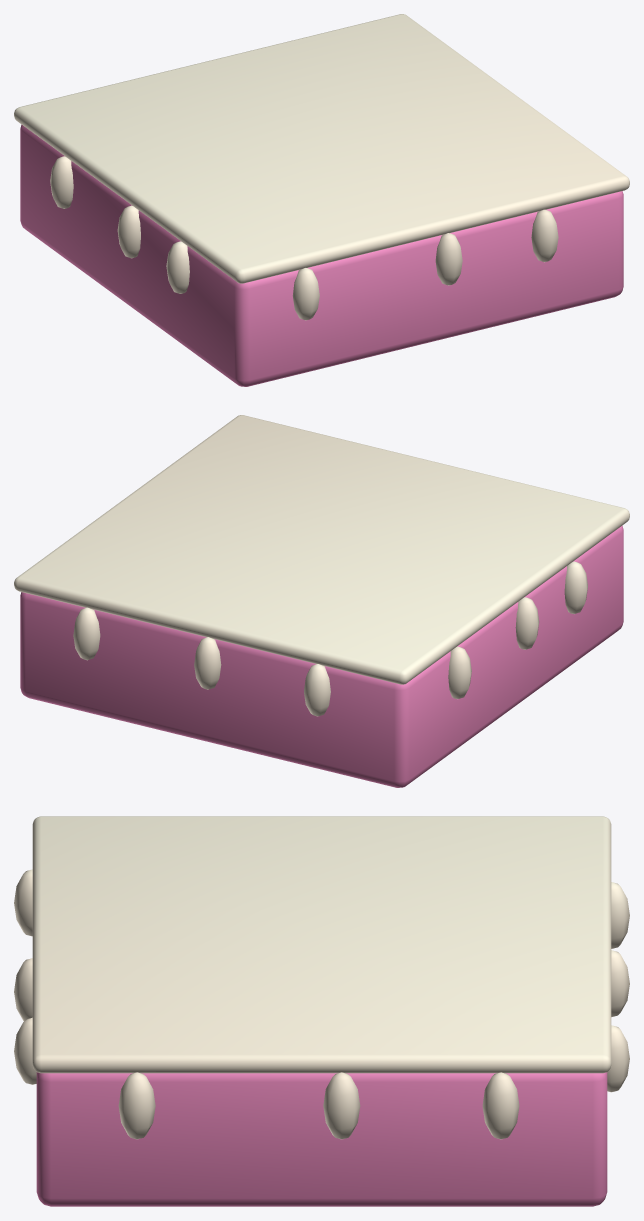
The model's file is bg_block.glb.
The picture shows the model from 3 angles, top to bottom: view 1: azimuth 30°, elevation 25°; view 2: azimuth 150°, elevation 25°; view 3: azimuth 270°, elevation 25°; orthographic projection. The views are drawn at different scales.
Visible parts, largest first — view 1: M_Block__k_trim, M_Block__k_base; view 2: M_Block__k_trim, M_Block__k_base; view 3: M_Block__k_trim, M_Block__k_base.
Part boxes in pixels (<box>): M_Block__k_trim: <box>14,14,629,320</box>; M_Block__k_base: <box>20,124,623,386</box>; M_Block__k_trim: <box>14,415,629,716</box>; M_Block__k_base: <box>20,525,623,787</box>; M_Block__k_trim: <box>14,816,629,1139</box>; M_Block__k_base: <box>36,1072,607,1206</box>.
Size of the model in its own units: 4.32 by 1.2 by 4.32.
